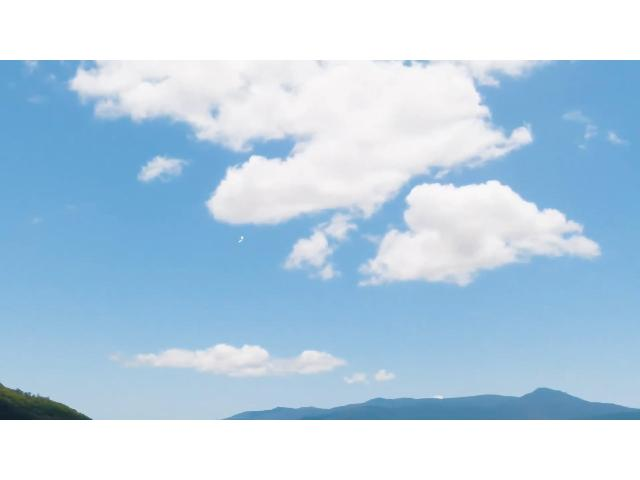Anti-Drone: (228, 232, 254, 250)
